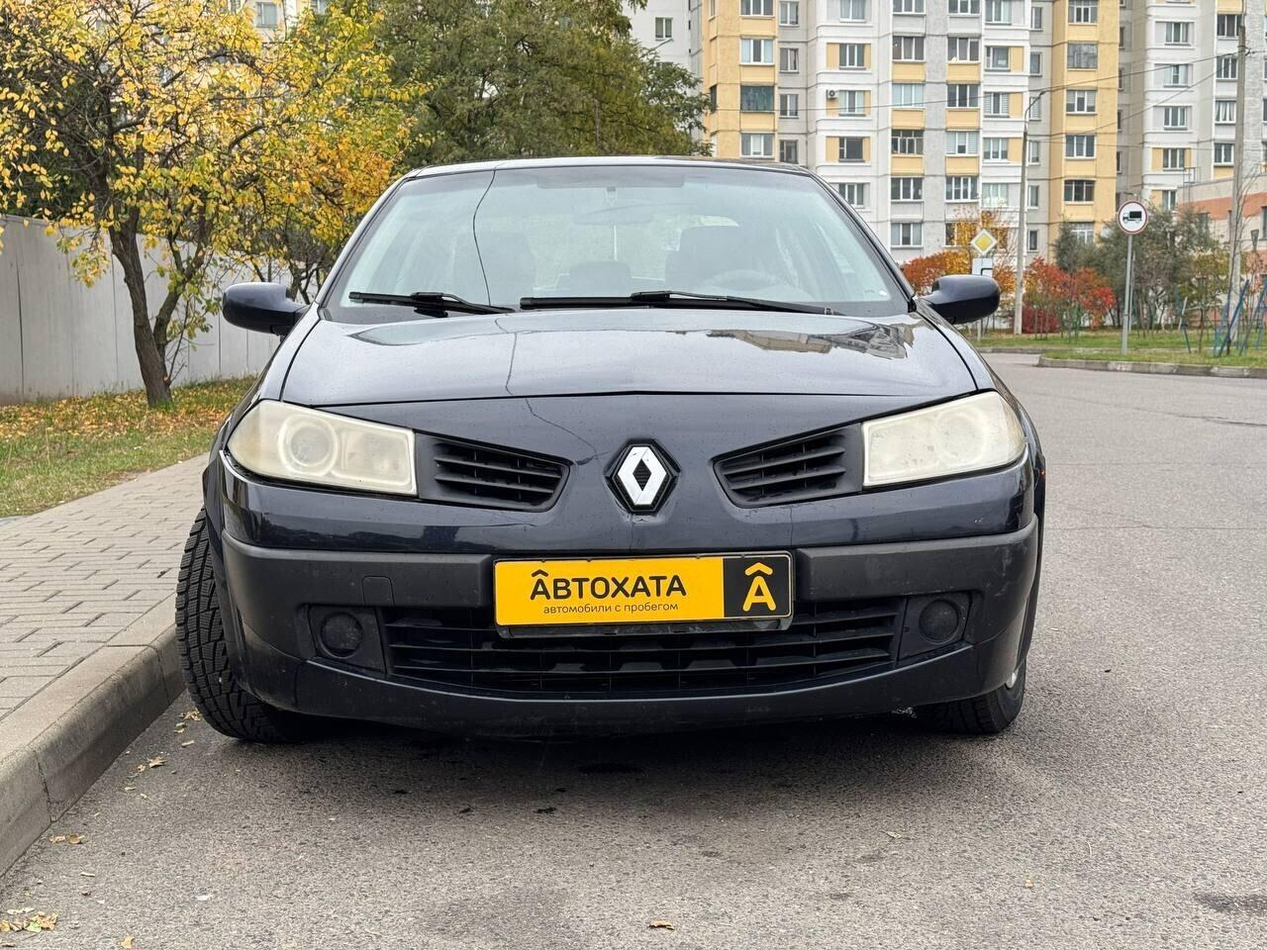Megane_2005-2009: (186, 147, 1062, 743)
